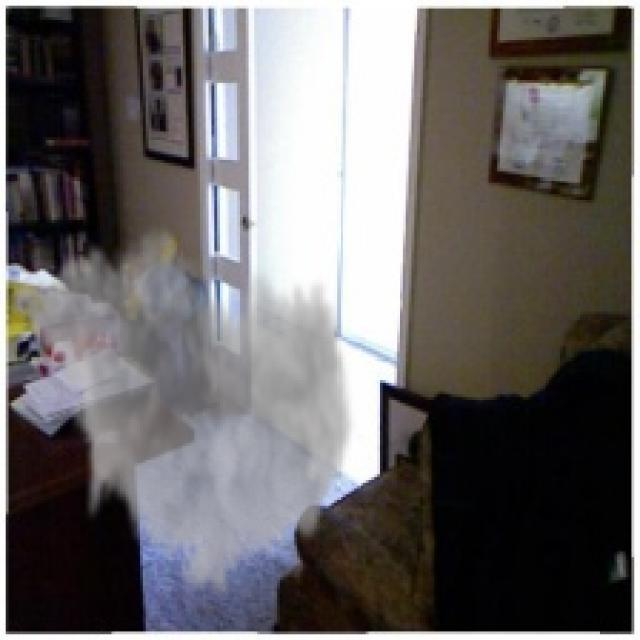Smoke: (9, 217, 358, 606)
